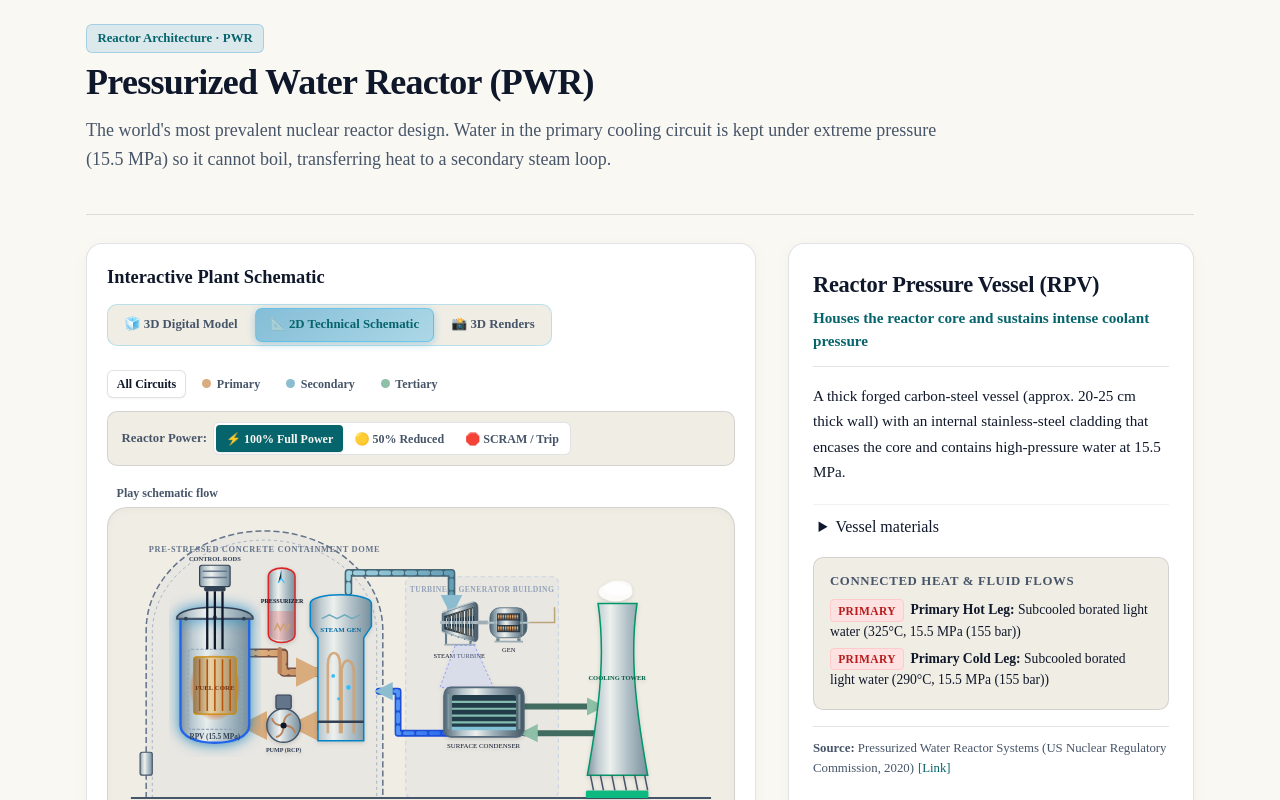
ReactorExplorer Component (R15) › opens component context without resetting the selected part or power
Click the radio button labelled "🟡 50% Reduced" at (399, 438), box 345,425 -> 454,452
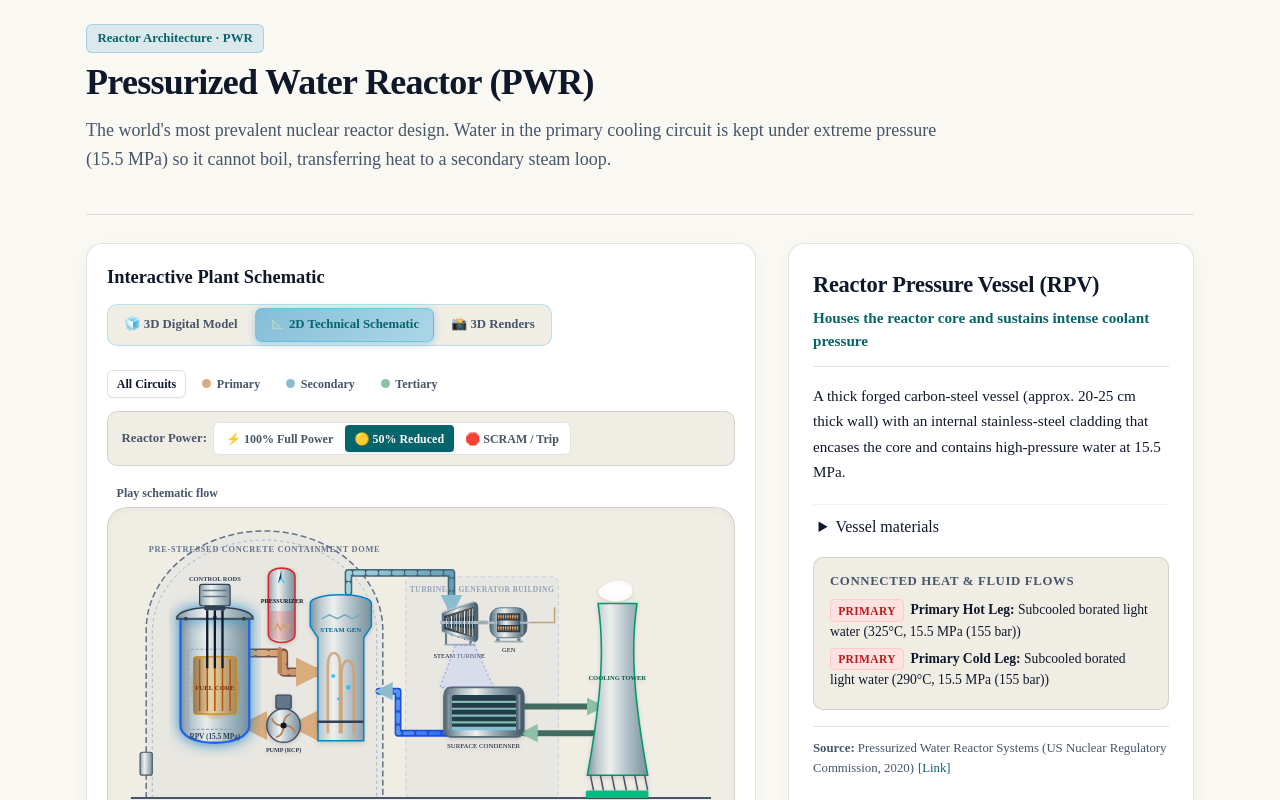
Click the heading "Vessel materials" at (887, 527), box 836,518 -> 939,535
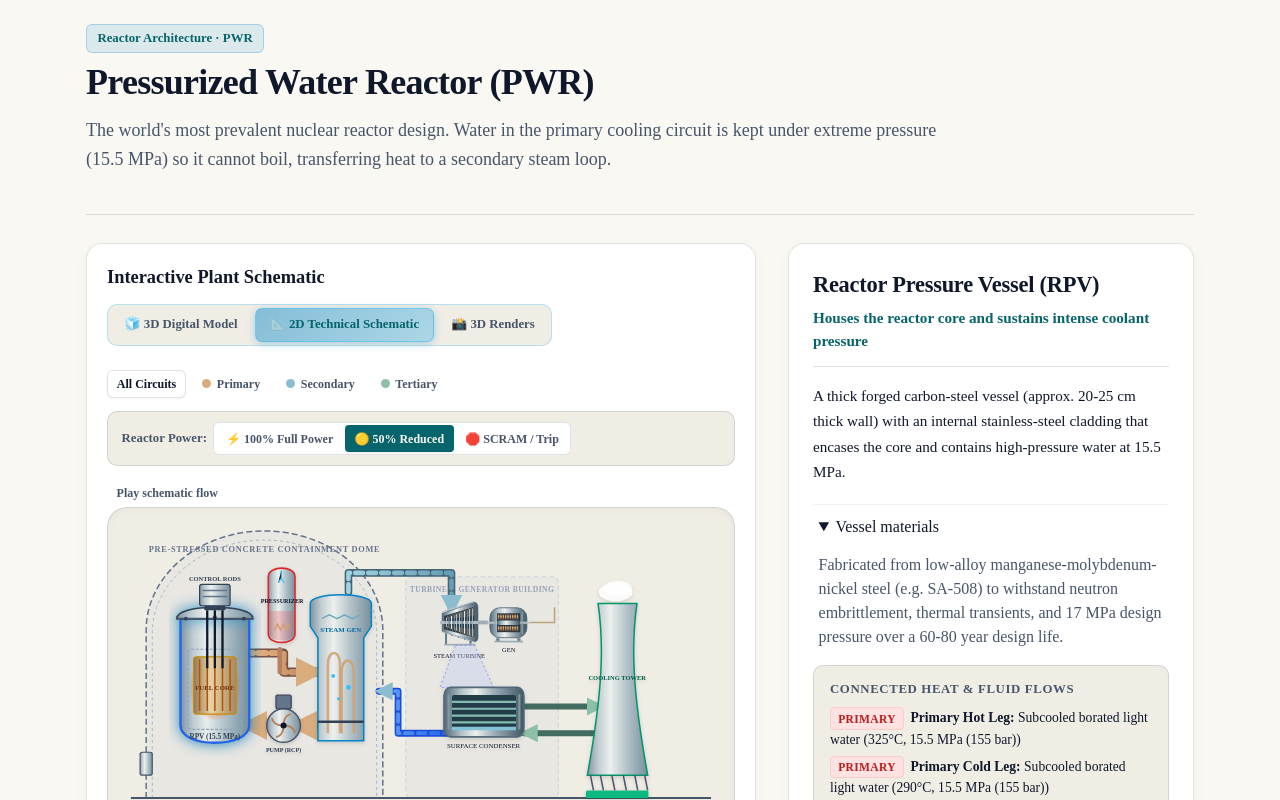
expect the heading "Reactor Pressure Vessel (RPV)" is shown: met, box 813,272 -> 1099,297
expect the text "Fabricated from low-alloy manganese-molybdenum-nickel steel" is shown: met, box 818,556 -> 1162,646
